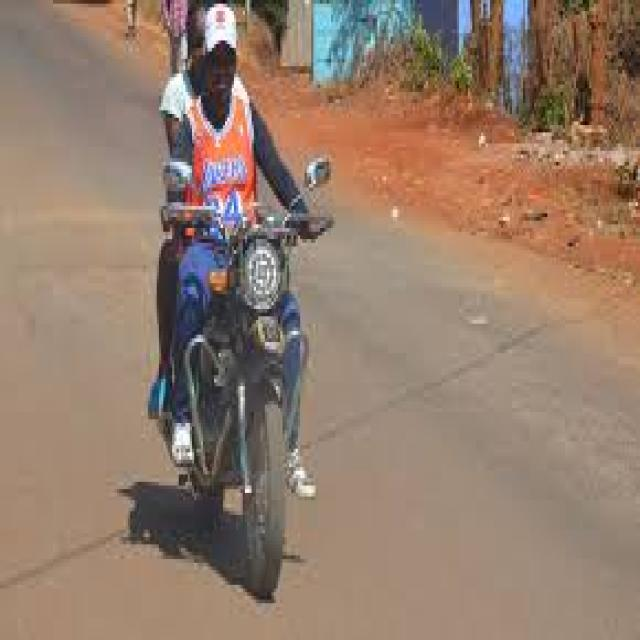bodaboda: (84, 122, 410, 610)
